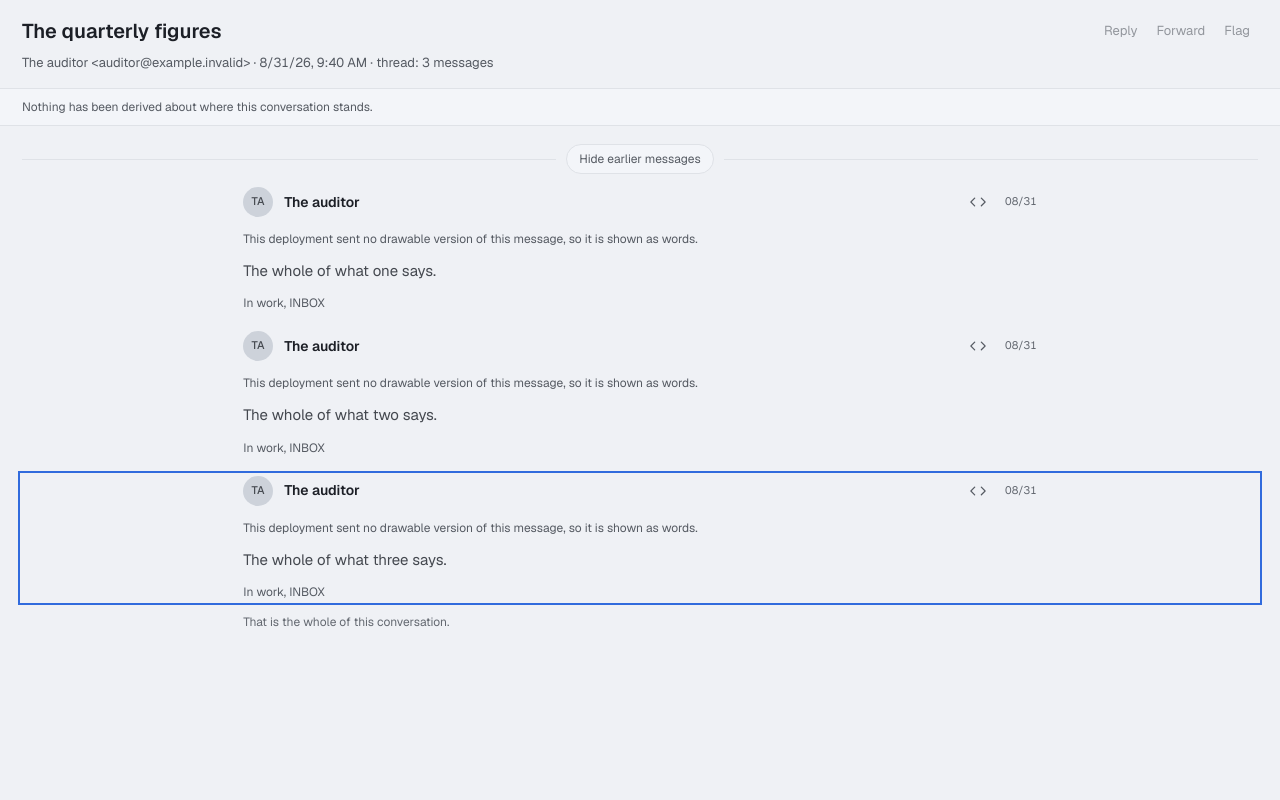
Test: Thread › still hides the history from a reader who asked for it expanded and then pressed the control
Click the button "Hide earlier messages". click: (640, 159)
box: [566,144,714,174]
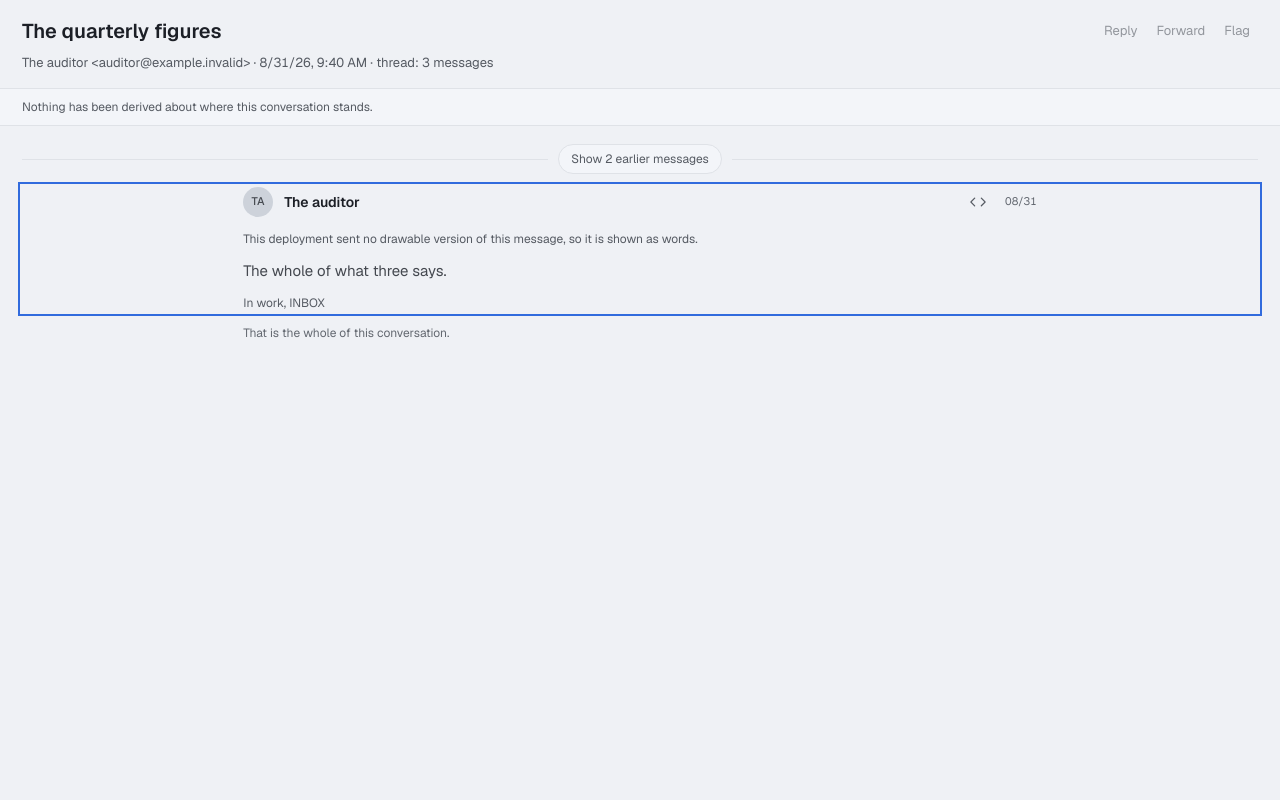
Now the number of list items is 1, box [243,186,1037,311]
Now the text "The whole of what one says." is gone
